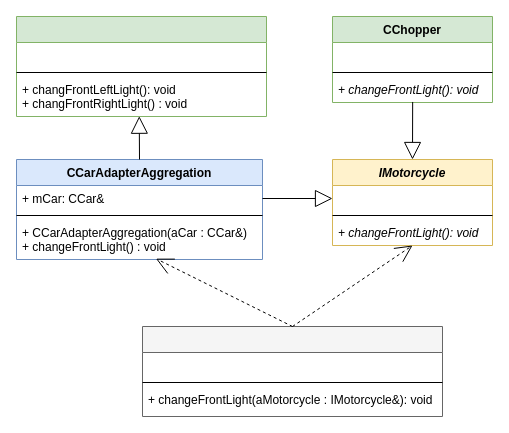
The diagram is 509 pixels wide and 433 high, and some of its shapes have lost their labels. The shapes that lost their labels are listed below. From the top down, each one's box as (x1, y1, x2, y2) in pixels, then its label:
(16, 16, 266, 116): CCar
(142, 326, 442, 416): CWorkshop
